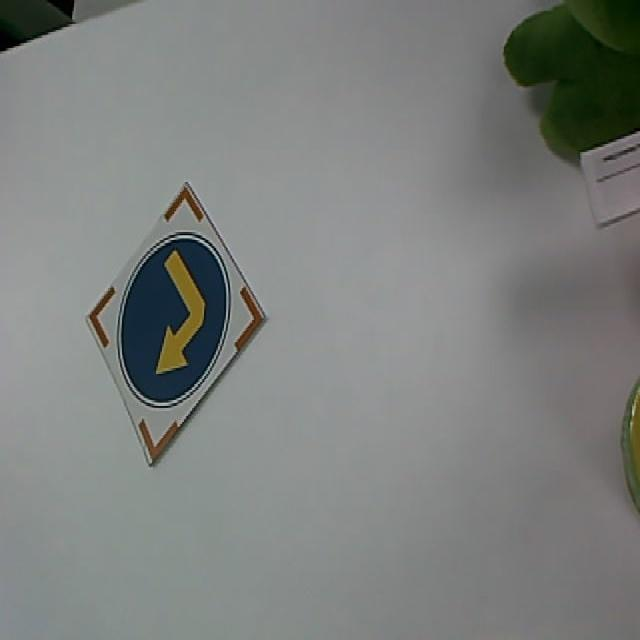turn: (118, 232, 232, 408)
